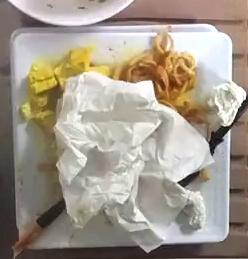asian_noodles: (120, 33, 195, 106)
tofu: (26, 49, 111, 132)
